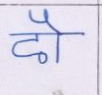au_matra: (36, 10, 66, 61)
